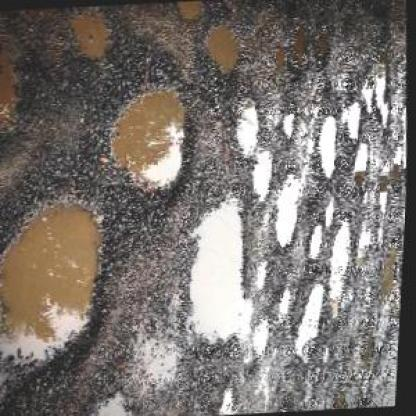pothole: (0, 195, 121, 382), (178, 190, 260, 355), (107, 85, 198, 198), (0, 22, 49, 164), (64, 5, 126, 74), (324, 215, 362, 319), (295, 278, 333, 360), (201, 20, 247, 80), (274, 171, 308, 251), (361, 57, 396, 133), (230, 96, 264, 161), (318, 116, 345, 182), (251, 147, 279, 205), (352, 136, 374, 193), (345, 98, 365, 141), (308, 224, 326, 260), (178, 2, 205, 24), (280, 111, 298, 139)
